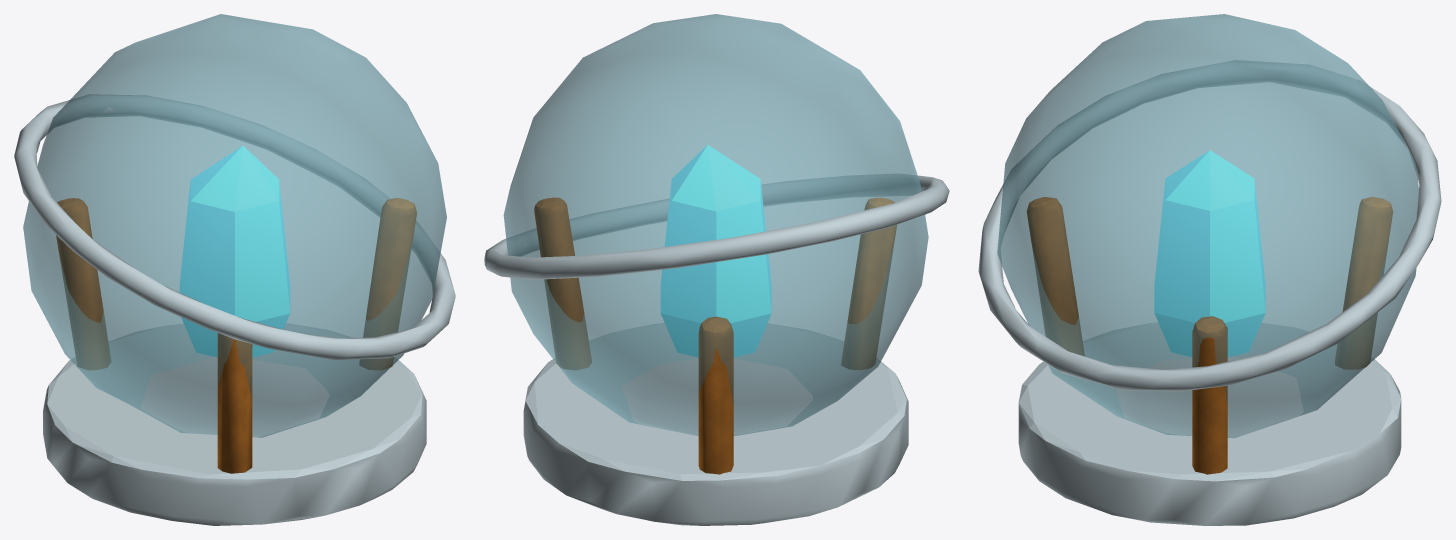
File: relic_01_low.glb
The picture shows the model from 3 angles, left to right: view 1: azimuth 30°, elevation 25°; view 2: azimuth 150°, elevation 25°; view 3: azimuth 270°, elevation 25°; orthographic projection.
Parts seen in each view (by area): view 1: Smoked_crystal, Antique_silver, Luminous_aquamarine, Brushed_gold; view 2: Smoked_crystal, Antique_silver, Luminous_aquamarine, Brushed_gold; view 3: Smoked_crystal, Antique_silver, Luminous_aquamarine, Brushed_gold.
Boxes of the visible parts, x1,y1,x2,y2 form: Smoked_crystal: (23, 14, 446, 437); Antique_silver: (14, 94, 455, 525); Luminous_aquamarine: (179, 145, 290, 357); Brushed_gold: (56, 198, 416, 473); Smoked_crystal: (503, 14, 928, 436); Antique_silver: (484, 174, 949, 525); Luminous_aquamarine: (660, 145, 771, 357); Brushed_gold: (534, 197, 896, 474); Smoked_crystal: (997, 14, 1418, 438); Antique_silver: (978, 60, 1441, 525); Luminous_aquamarine: (1154, 150, 1265, 356); Brushed_gold: (1026, 196, 1392, 474).
Size of the model in its own units: 0.5623 by 0.57 by 0.5763.
Materials: 4 (1 with a texture image).
